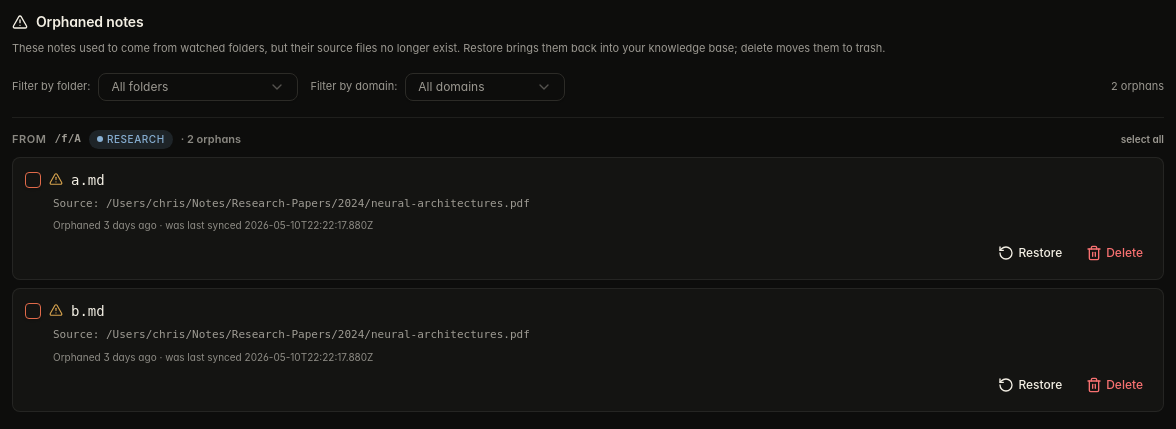
Test: PanelOrphans — single-row restore › restore optimistically drops the row before the API resolves
The width and height of the screenshot is (1176, 429).
Expected: the number of list items with test id "orphan-row" is 2, x1=12 y1=156 x2=1164 y2=280; x1=12 y1=288 x2=1164 y2=412
Click the button with test id "orphan-row-restore-/vault/r/a.md".
click(1030, 253)  # box x1=990 y1=239 x2=1070 y2=267
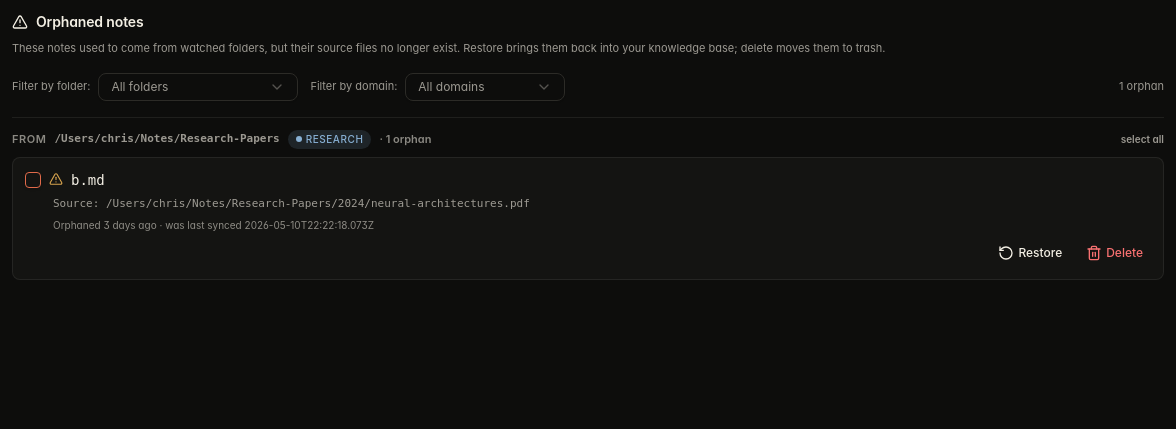
Expected: the number of list items with test id "orphan-row" is 1, x1=12 y1=156 x2=1164 y2=280
